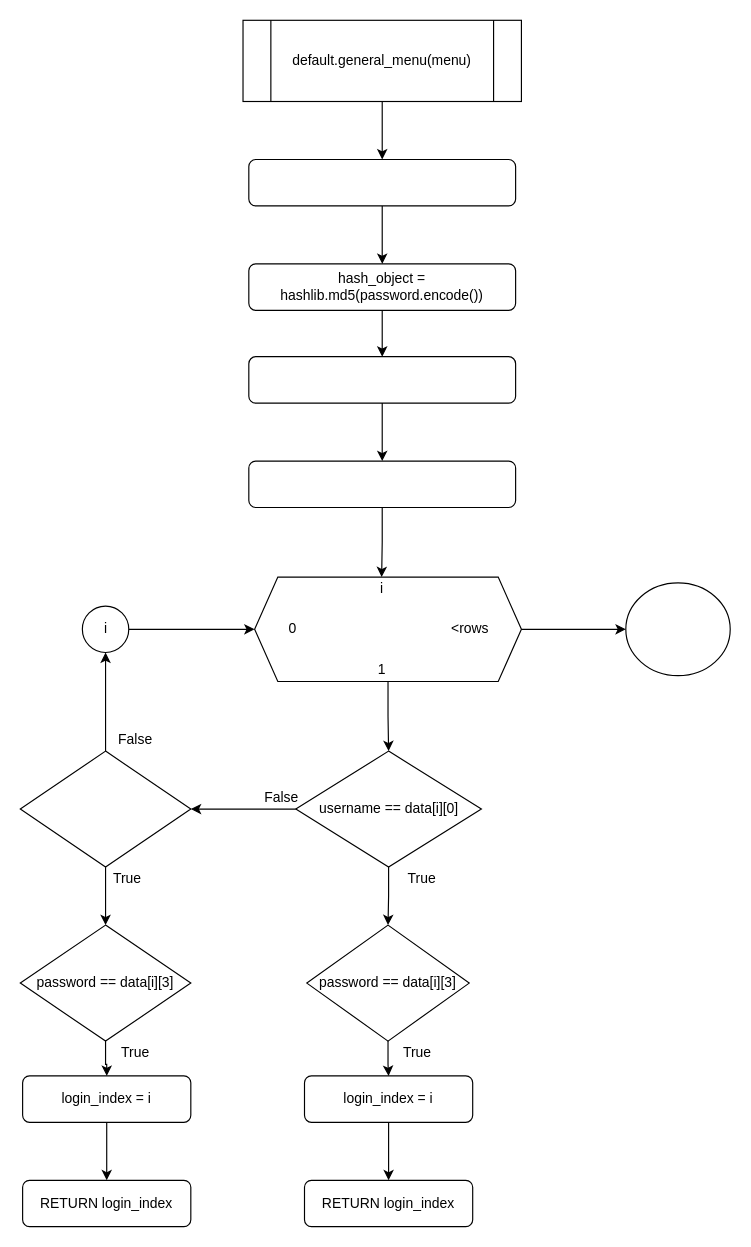
The diagram is 751 pixels wide and 1247 high, and some of its shapes have lost their labels. Each missing label, with the centre of its shape:
md5_hash = hash_object.hexdigest(): (382,379)
password = md5_hash: (382,483)
RETURN 0: (677,629)
rows = LEN(data): (382,182)
username == data[i][2]: (105,808)
